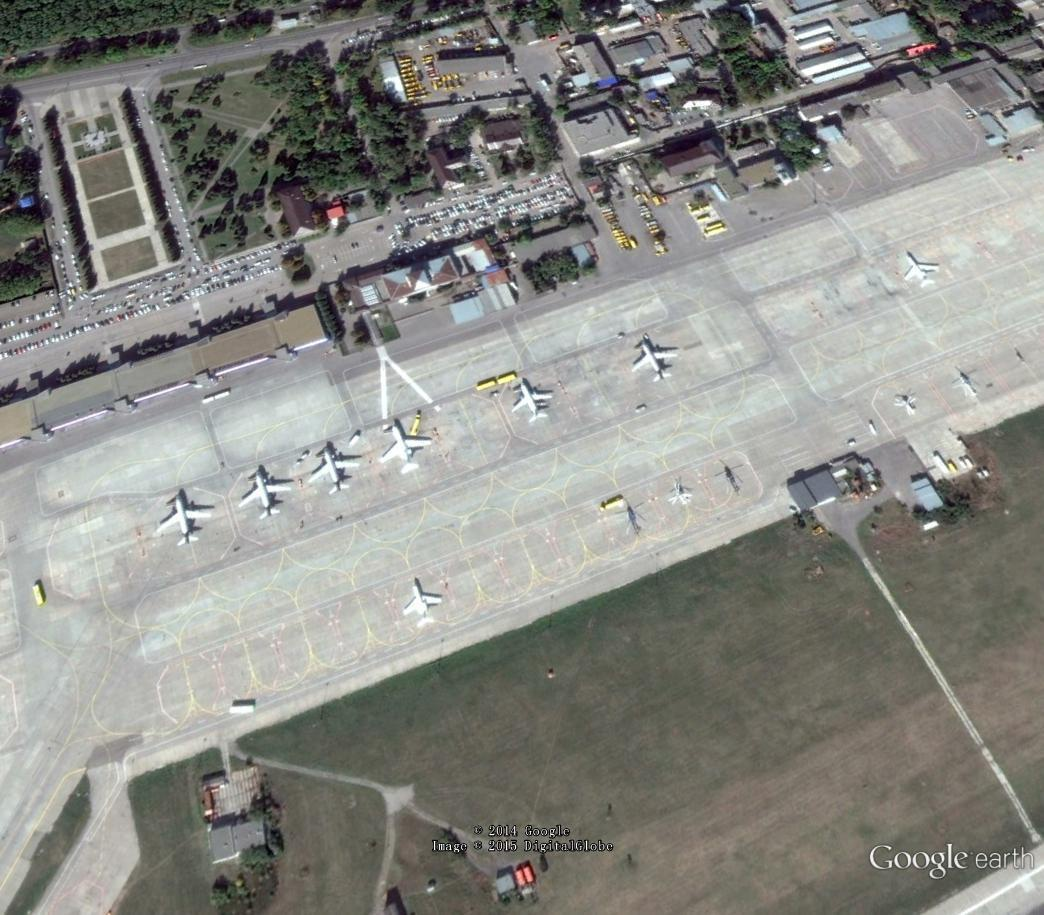aircraft: (154, 493, 220, 552), (376, 417, 439, 478), (237, 466, 300, 520), (304, 444, 366, 498), (628, 334, 682, 388), (400, 580, 451, 633), (507, 375, 558, 426), (900, 249, 945, 292)
